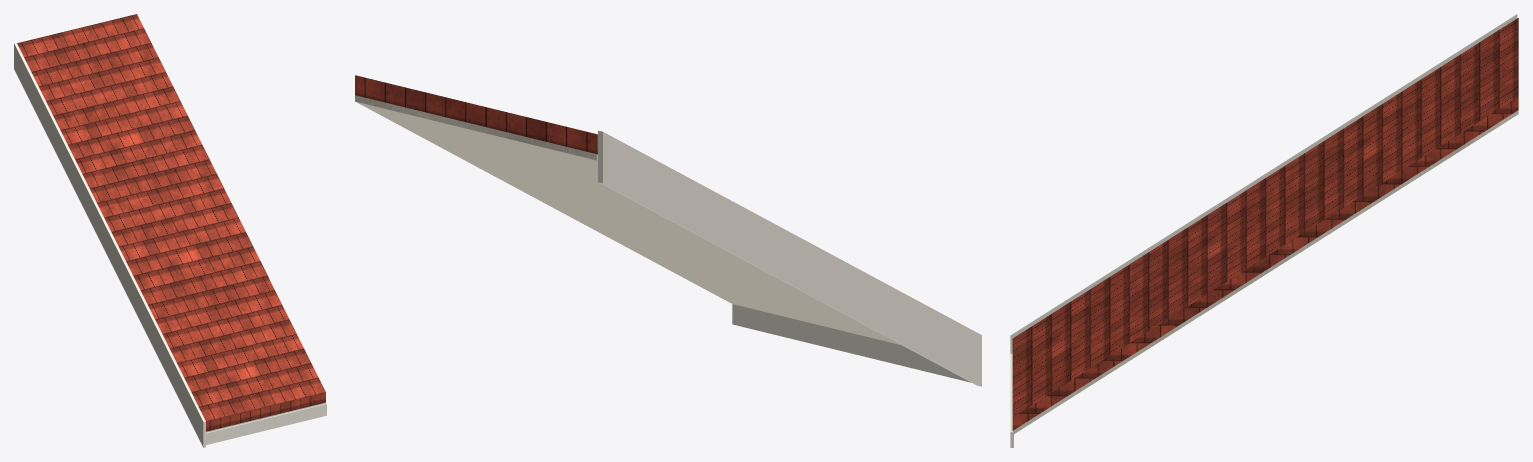
File: roof_back_end_l.glb
3 renders of one model, left to right at view 1: azimuth 30°, elevation 25°; view 2: azimuth 150°, elevation 25°; view 3: azimuth 270°, elevation 25°, orthographic. The views are drawn at different scales.
Visible parts, largest first — view 1: roof_back_end_l_roof, roof_back_end_l_trim; view 2: roof_back_end_l_trim, roof_back_end_l_plaster, roof_back_end_l_roof; view 3: roof_back_end_l_roof, roof_back_end_l_trim, roof_back_end_l_plaster.
Part boxes in pixels (x1,y1,x2,y2): roof_back_end_l_roof: [17, 14, 325, 431]; roof_back_end_l_trim: [14, 42, 326, 447]; roof_back_end_l_trim: [598, 130, 981, 386]; roof_back_end_l_plaster: [355, 95, 901, 345]; roof_back_end_l_roof: [355, 75, 597, 154]; roof_back_end_l_roof: [1012, 18, 1518, 430]; roof_back_end_l_trim: [1010, 14, 1517, 447]; roof_back_end_l_plaster: [1012, 110, 1518, 434].
Bounding box in the file's own units: 2.45 × 5.05 × 6.53.
3 materials, 2 textured.
